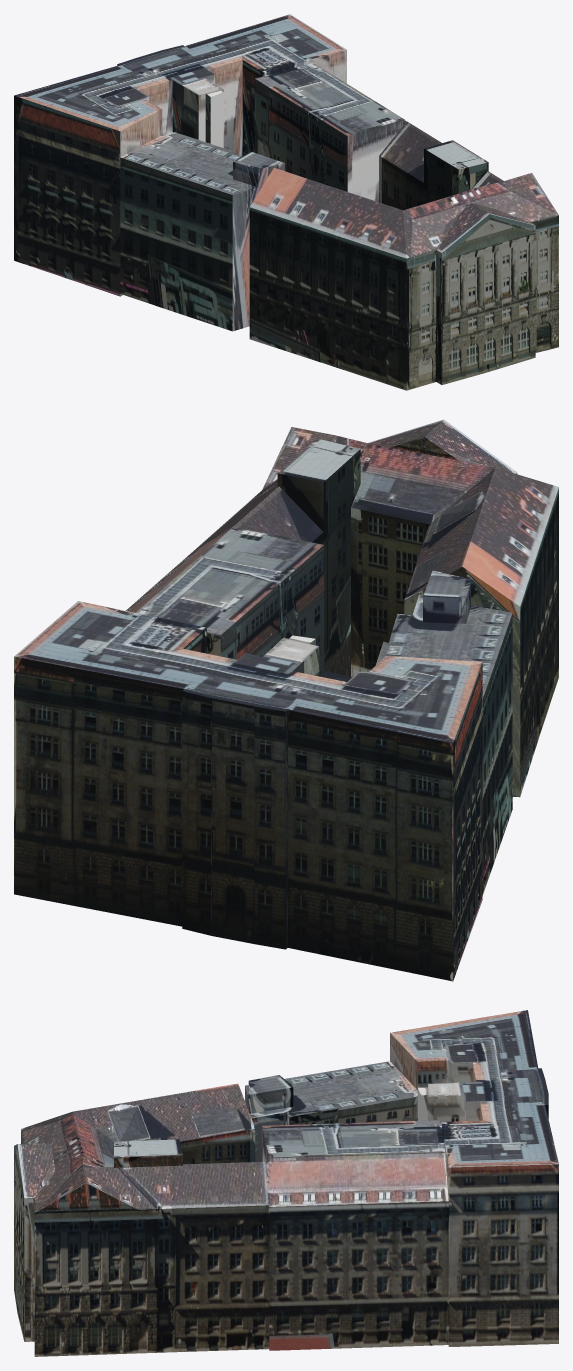
3 renders of one model, top to bottom at view 1: azimuth 30°, elevation 25°; view 2: azimuth 150°, elevation 25°; view 3: azimuth 270°, elevation 25°, orthographic. The views are drawn at different scales.
Bounding box in the file's own units: 57.97 × 29.27 × 79.
Materials: 109 (108 with a texture image).
